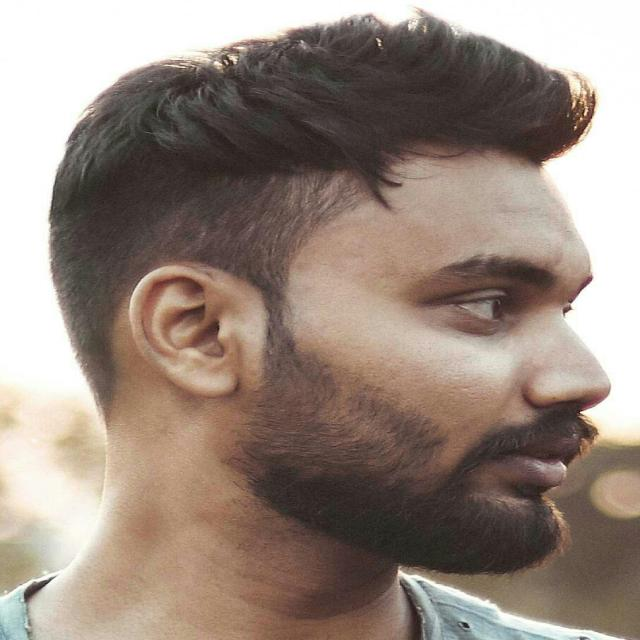front: (365, 204, 640, 556)
